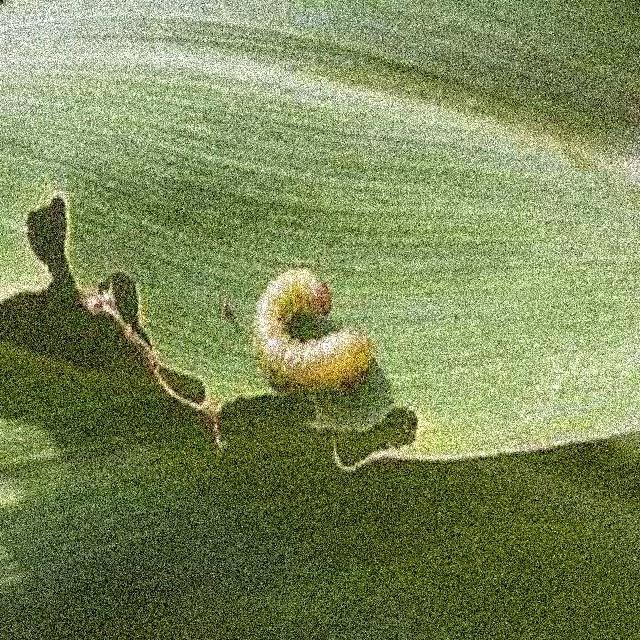gusano_cogollero: (242, 262, 382, 396)
